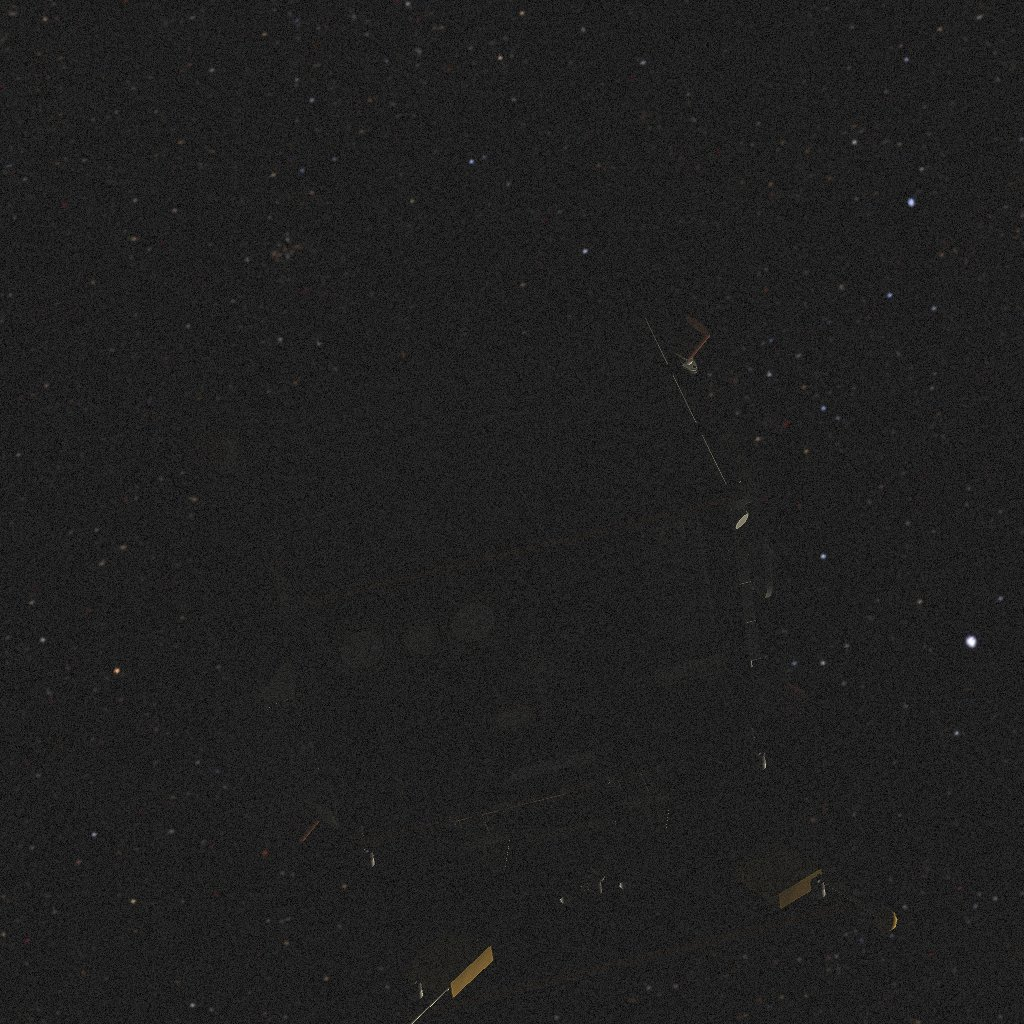proba_2: (184, 303, 897, 1024)
